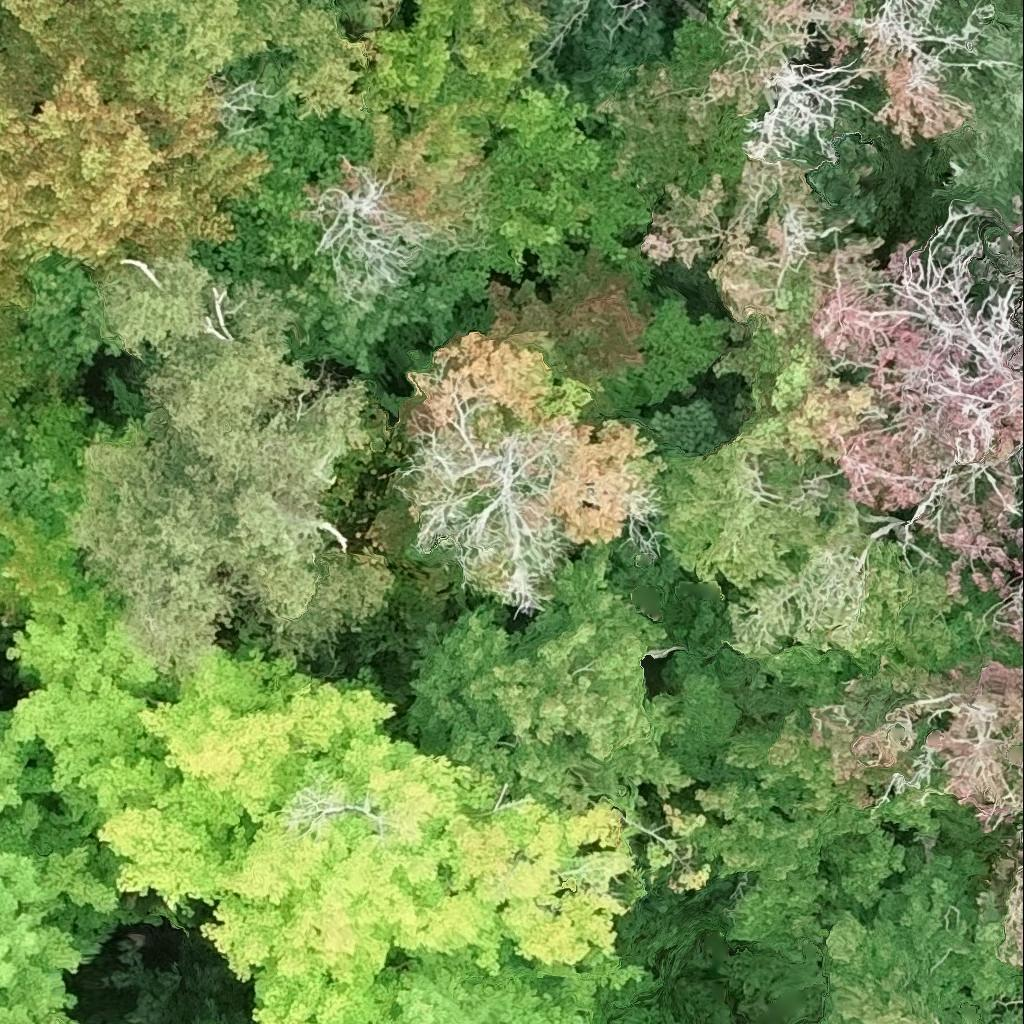crown: (97, 645, 709, 1023), (0, 0, 269, 419), (393, 327, 666, 612), (409, 534, 687, 806), (184, 378, 395, 661), (63, 406, 257, 672), (89, 257, 319, 447), (0, 708, 135, 1023), (6, 614, 179, 834), (0, 387, 140, 651), (85, 0, 380, 121), (382, 940, 646, 1023), (19, 254, 122, 390), (0, 417, 63, 519), (0, 528, 12, 572), (0, 612, 0, 613)
